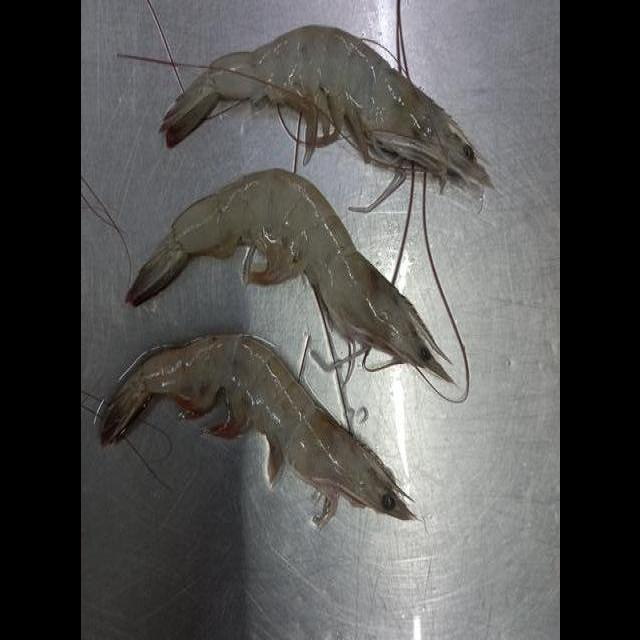shrimp: (126, 170, 450, 381), (101, 335, 415, 527), (161, 27, 491, 186)
